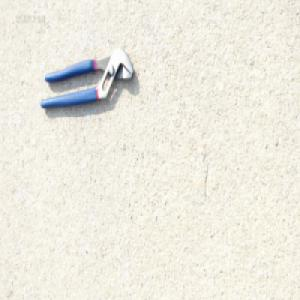Pliers: (39, 48, 133, 112)
